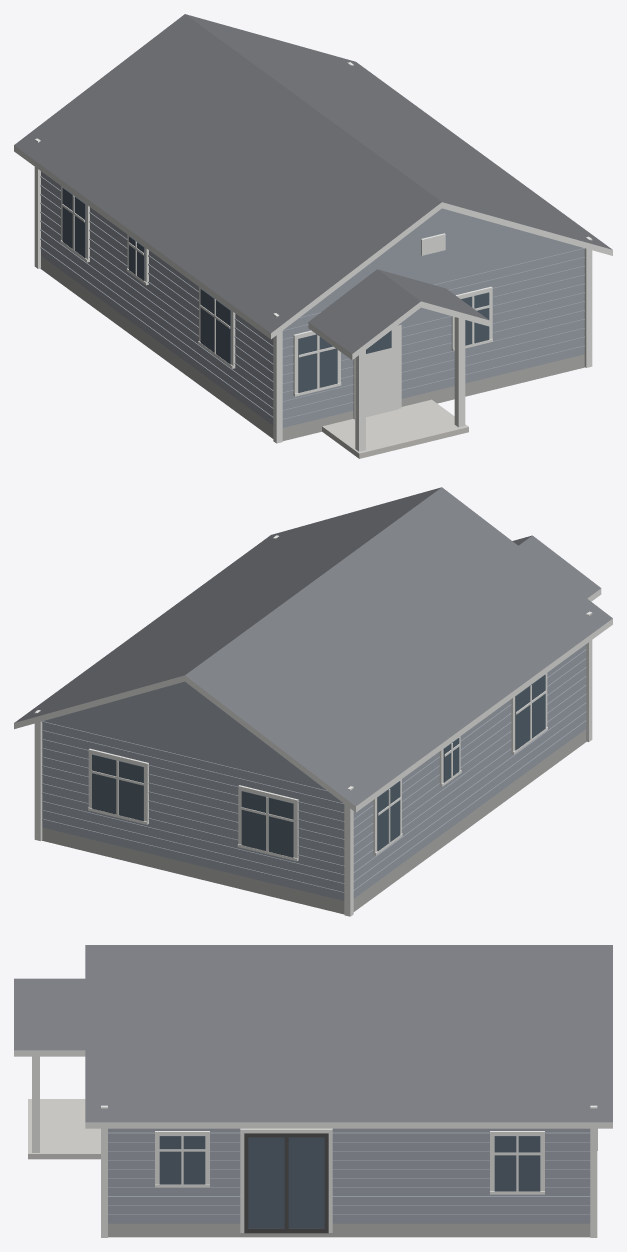
The model's file is walnut-cottage.glb.
The picture shows the model from 3 angles, top to bottom: view 1: azimuth 30°, elevation 25°; view 2: azimuth 150°, elevation 25°; view 3: azimuth 270°, elevation 25°; orthographic projection. The views are drawn at different scales.
Parts seen in each view (by area): view 1: The Walnut (cottage); view 2: The Walnut (cottage); view 3: The Walnut (cottage).
Part boxes in pixels (x1,y1,x2,y2): The Walnut (cottage): (14,14,612,458); The Walnut (cottage): (14,487,612,916); The Walnut (cottage): (14,945,612,1237).
Bounding box in the file's own units: 8.08 × 4.72 × 11.94.
